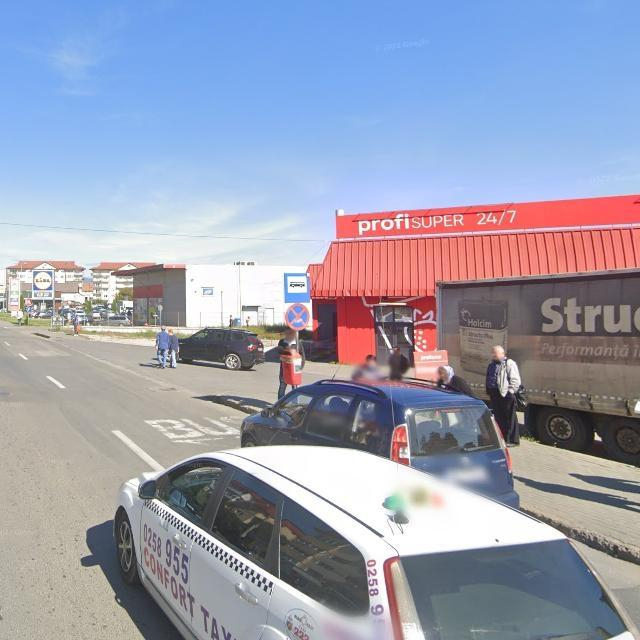forb_waiting: (286, 303, 310, 330)
